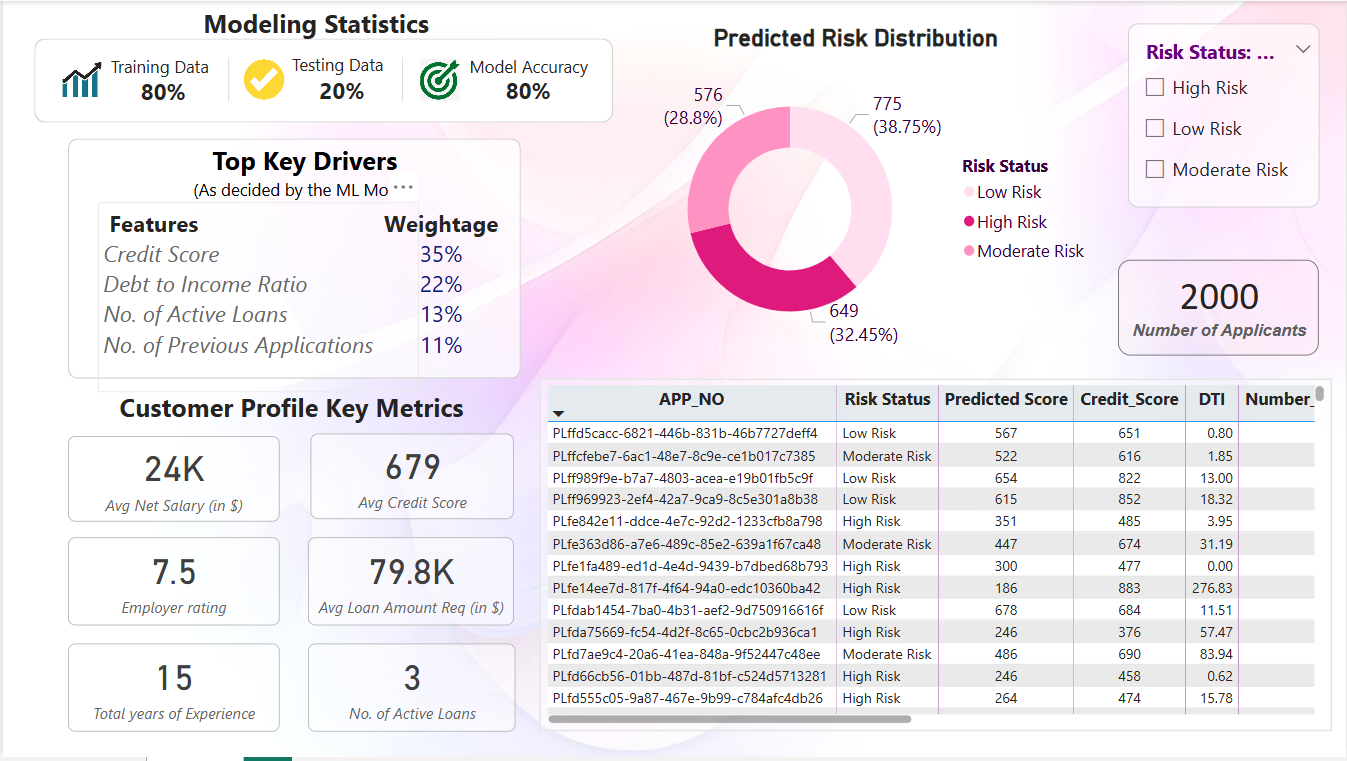

What the dashboard file says about the page in this screenshot:
{"tool":"powerbi","page":{"name":"Page 2","canvas":[1280,720],"ordinal":0},"visuals":[{"type":"shape","box":[30,36.2,551.2,80],"z":0},{"type":"image","box":[50.6,53.7,46.9,45.4],"z":1000},{"type":"textbox","box":[97.5,46.8,119.2,40],"z":2000},{"type":"textbox","box":[126,66.8,66.2,43.1],"z":3000},{"type":"textbox","box":[270,44.5,119.3,40],"z":4000},{"type":"textbox","box":[296.7,65.2,66,42.7],"z":5000},{"type":"textbox","box":[439,46.3,134,40],"z":6000},{"type":"textbox","box":[473.6,64.9,66,43.3],"z":7000},{"type":"image","box":[391.7,53.2,47.3,45.5],"z":8000},{"type":"image","box":[223.5,53.2,48.3,45.8],"z":9000},{"type":"textbox","box":[186.2,0,250,51.2],"z":10000},{"type":"shape","box":[62.5,131.2,431.2,228.8],"z":11000},{"type":"textbox","box":[163.7,131,246.2,70],"z":12000},{"type":"textbox","box":[90,192.2,306.2,180],"z":13000},{"type":"textbox","box":[352.5,192.2,130,172.5],"z":14000},{"type":"donutChart","title":"Predicted Risk Distribution","fields":{"Category":["Query1.Risk Status"],"Y":["CountNonNull(Query1.Risk Status)"]},"box":[581.2,21.2,462.5,325],"z":15000},{"type":"card","fields":{"Values":["Count(Query1.APP_NO)"]},"box":[1062.5,246.2,191.2,91.2],"z":16000},{"type":"tableEx","fields":{"Values":["Query1.APP_NO","Query1.Risk Status","Query1.Predicted Score","Query1.Credit_Score","Query1.DTI","Query1.Number_Of_Active_Loans","Query1.Number_Of_Previous_Applications","Query1.NetSalary","Query1.LOAN_AMTREQD","Query1.LOAN_DEFINEDTENOR"]},"box":[511.2,360,755,336.2],"z":17000},{"type":"slicer","title":"Risk Status","fields":{"Values":["Query1.Risk Status"]},"box":[1071.2,21.2,182.5,175],"z":18000},{"type":"textbox","box":[78.8,365,392.5,67.5],"z":19000},{"type":"card","fields":{"Values":["Avg(Query1.NetSalary)"]},"box":[62.5,413.8,201.2,81.2],"z":20000},{"type":"card","fields":{"Values":["Avg(Query1.Credit_Score)"]},"box":[292.5,412.5,193.8,81.2],"z":21000},{"type":"card","fields":{"Values":["Avg(Query1.Employer_ratings)"]},"box":[62.5,511.2,201.2,83.8],"z":22000},{"type":"card","fields":{"Values":["Avg(Query1.LOAN_AMTREQD)"]},"box":[290,511.2,196.2,83.8],"z":23000},{"type":"card","fields":{"Values":["Avg(Query1.TOTAL_YRSEXP)"]},"box":[62.5,612.5,201.2,83.8],"z":24000},{"type":"card","fields":{"Values":["Avg(Query1.Number_Of_Active_Loans)"]},"box":[290,612.5,197.5,83.8],"z":25000},{"type":"shape","box":[186.2,53.8,58.8,42.5],"z":26000},{"type":"shape","box":[351.2,53.8,58.8,42.5],"z":27000}]}

Visuals, with their boxes in screenshot pixels (x1, y1, x2, y2), scaled from the page's 1280x720 canvas onto the 1347x761 screenshot:
shape: box(32, 38, 612, 123)
image: box(53, 57, 103, 105)
textbox: box(103, 49, 228, 92)
textbox: box(133, 71, 202, 116)
textbox: box(284, 47, 410, 89)
textbox: box(312, 69, 382, 114)
textbox: box(462, 49, 603, 91)
textbox: box(498, 69, 568, 114)
image: box(412, 56, 462, 104)
image: box(235, 56, 286, 105)
textbox: box(196, 0, 459, 54)
shape: box(66, 139, 520, 380)
textbox: box(172, 138, 431, 212)
textbox: box(95, 203, 417, 393)
textbox: box(371, 203, 508, 385)
"Predicted Risk Distribution" donutChart: box(612, 22, 1098, 366)
card - Count(Query1.APP_NO): box(1118, 260, 1319, 357)
tableEx - Query1.APP_NO x Query1.Risk Status: box(538, 380, 1332, 736)
"Risk Status" slicer: box(1127, 22, 1319, 207)
textbox: box(83, 386, 496, 457)
card - Avg(Query1.NetSalary): box(66, 437, 278, 523)
card - Avg(Query1.Credit_Score): box(308, 436, 512, 522)
card - Avg(Query1.Employer_ratings): box(66, 540, 278, 629)
card - Avg(Query1.LOAN_AMTREQD): box(305, 540, 512, 629)
card - Avg(Query1.TOTAL_YRSEXP): box(66, 647, 278, 736)
card - Avg(Query1.Number_Of_Active_Loans): box(305, 647, 513, 736)
shape: box(196, 57, 258, 102)
shape: box(370, 57, 431, 102)
